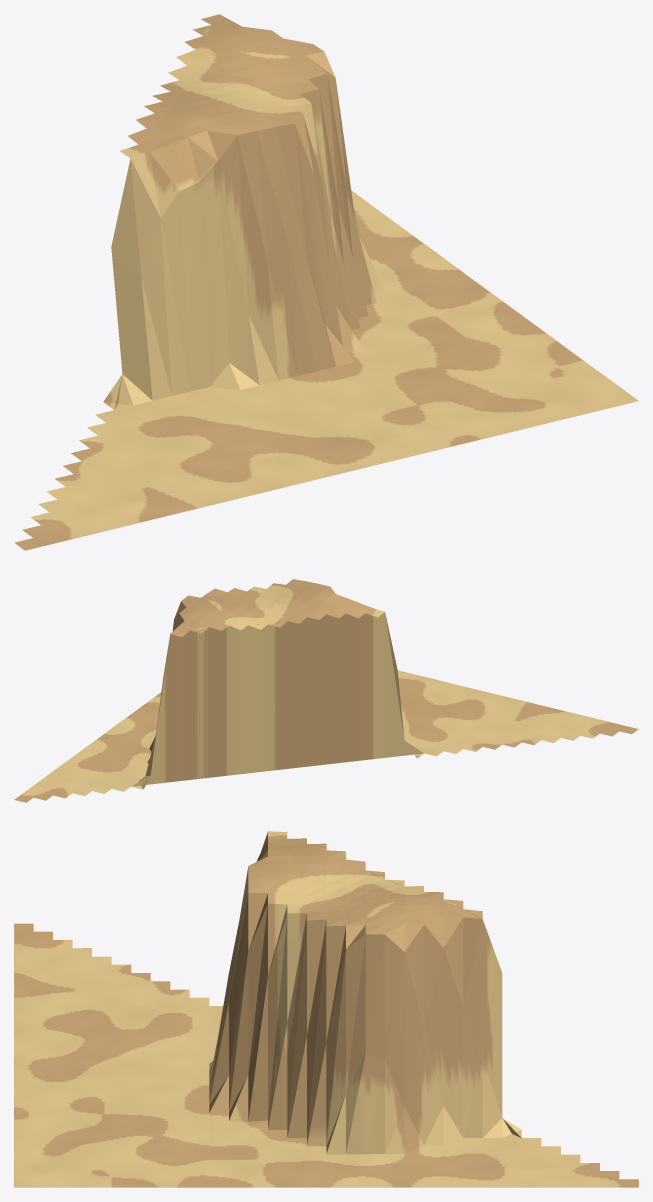
File: Desert_Mountains_04_NE.obj
3 views of the same model, one above another, from view 1: azimuth 30°, elevation 25°; view 2: azimuth 150°, elevation 25°; view 3: azimuth 270°, elevation 25° (orthographic). The views are drawn at different scales.
Size of the model in its own units: 10 by 3.69 by 10.
Materials: 1 (1 with a texture image).
